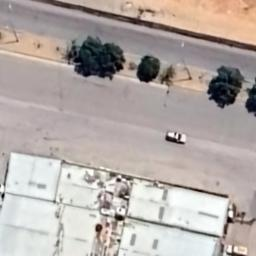pickup: (165, 132, 187, 144)
unknown: (226, 245, 248, 256)
